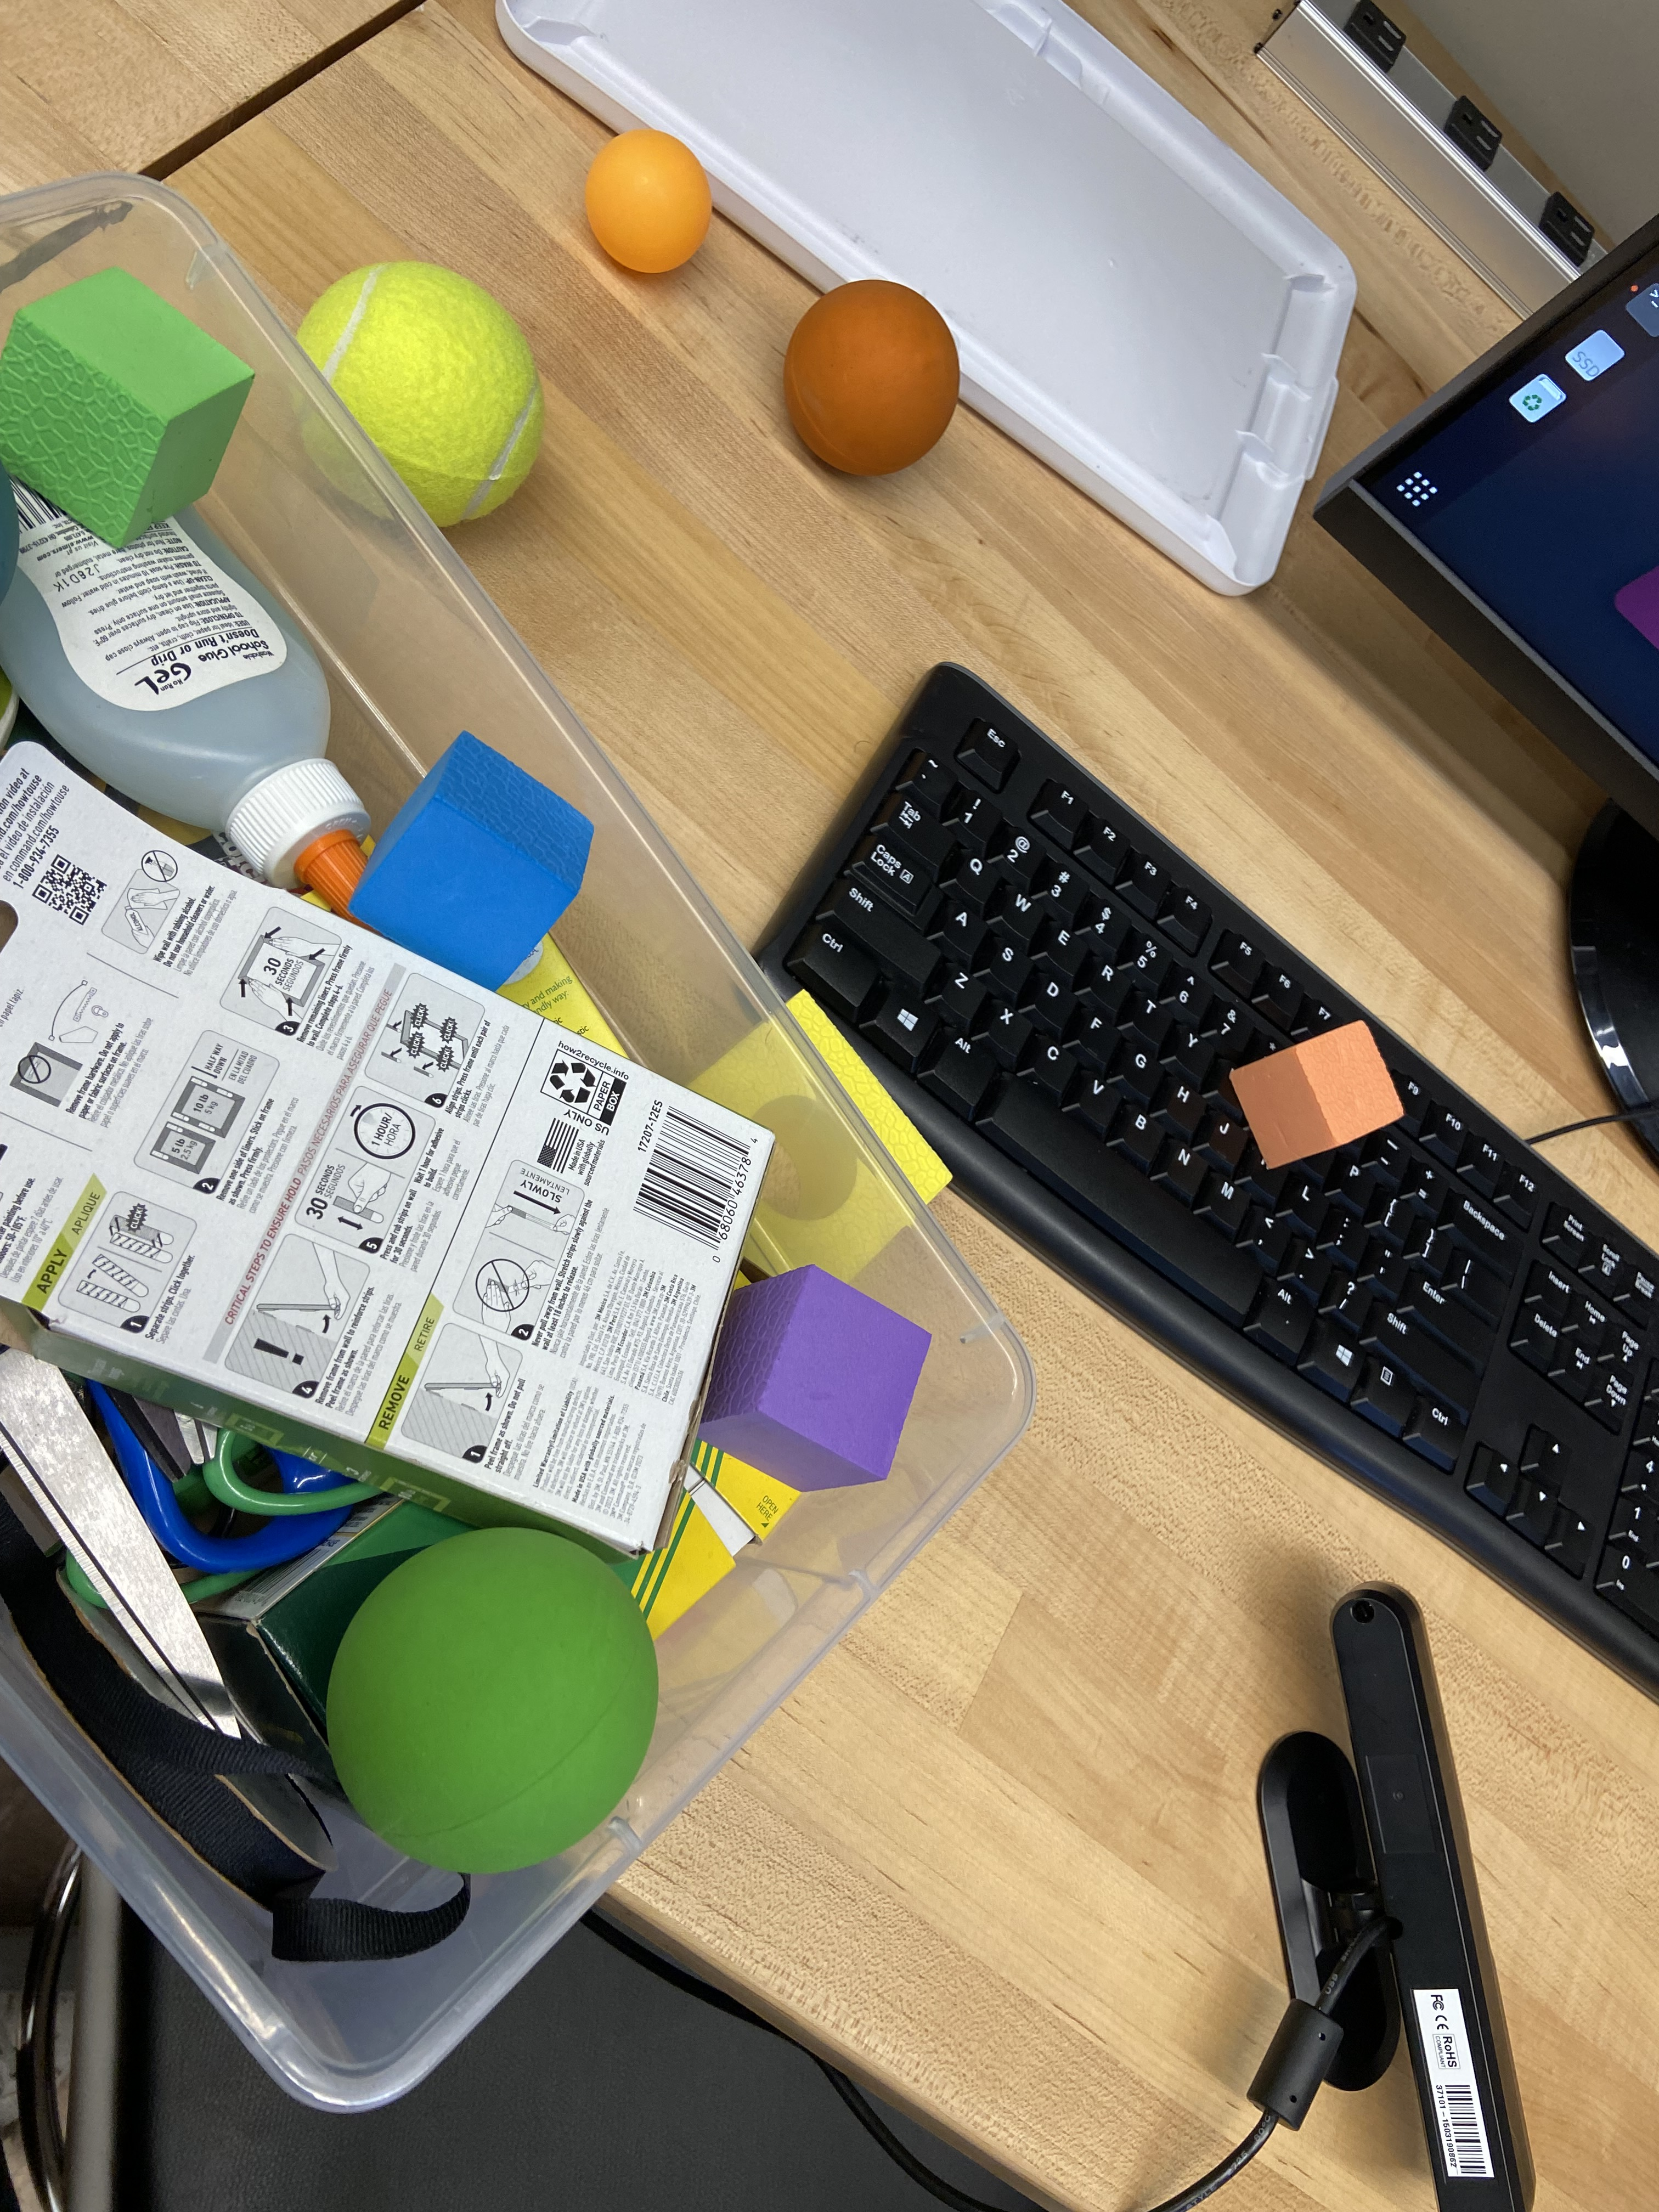Cube: (3, 275, 260, 559), (359, 726, 599, 998), (706, 1275, 931, 1486), (1225, 1010, 1412, 1170)
ball: (328, 1527, 657, 1872), (300, 284, 540, 535), (786, 284, 960, 477), (580, 131, 714, 279)
